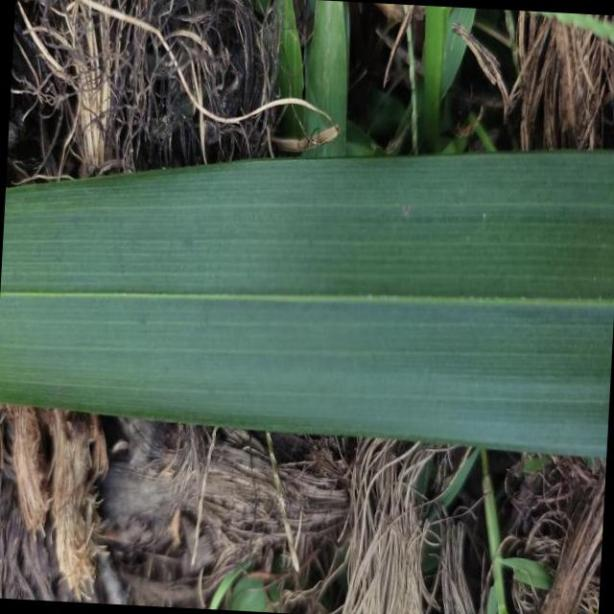Healthy: (1, 150, 614, 457)
